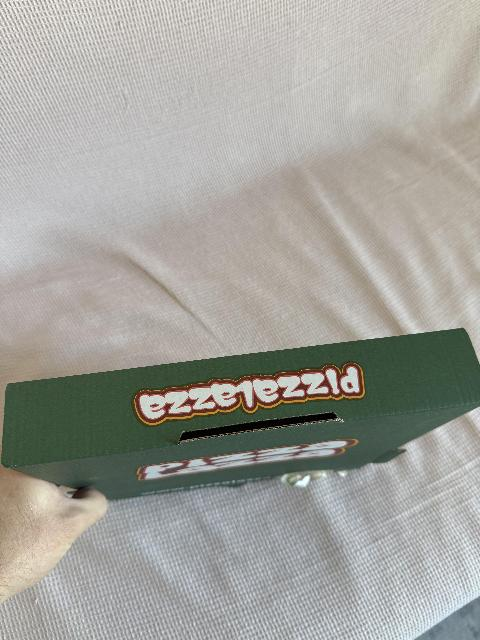Kagit: (3, 327, 480, 503)
